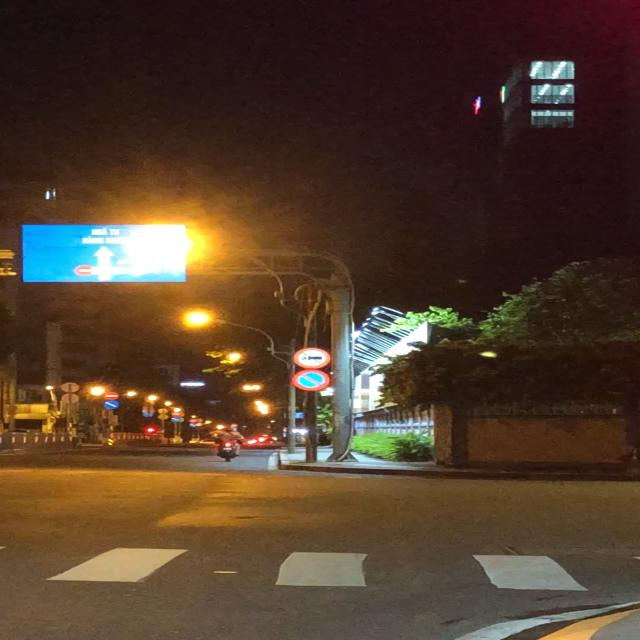Bien bao cam do xe: (286, 368, 344, 394)
Bien bao cam xe so-mi ro-mooc: (291, 344, 333, 372)
